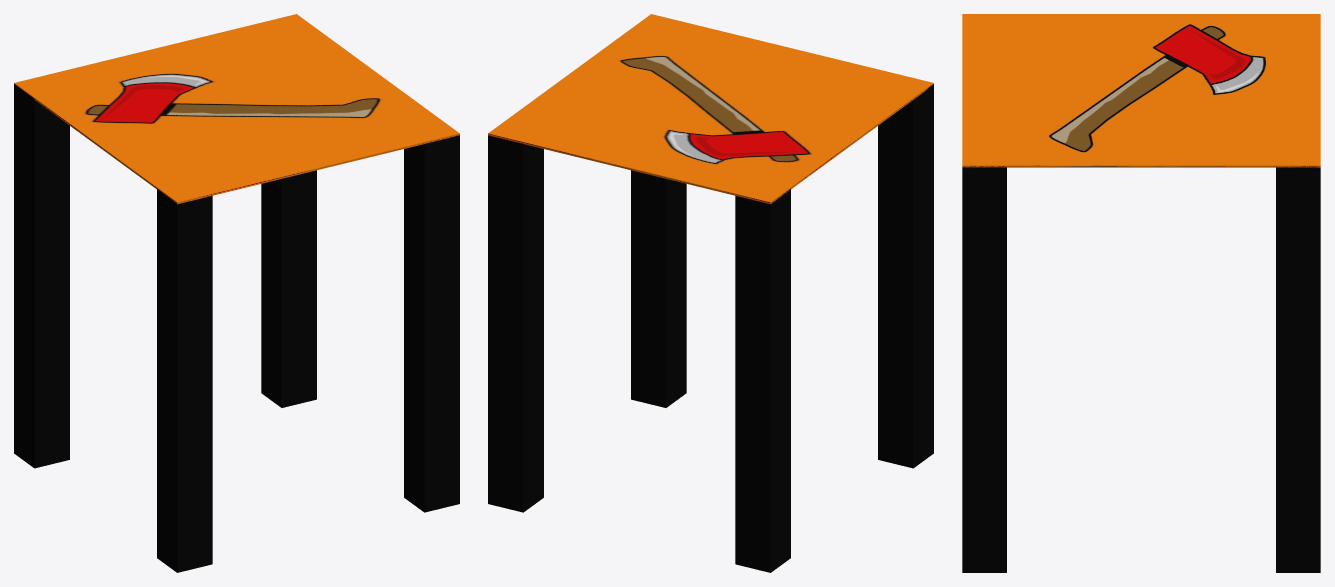
File: smash-table.dae
The picture shows the model from 3 angles, left to right: view 1: azimuth 30°, elevation 25°; view 2: azimuth 150°, elevation 25°; view 3: azimuth 270°, elevation 25°; orthographic projection. The views are drawn at different scales.
Parts seen in each view (by area): view 1: Top, TL4, TL1, TL3, TL2; view 2: Top, TL3, TL2, TL4, TL1; view 3: Top, TL1, TL2.
Boxes of the visible parts, x1=… form: Top: x1=14, y1=14, x2=459, y2=204; TL4: x1=157, y1=189, x2=212, y2=572; TL1: x1=404, y1=135, x2=459, y2=512; TL3: x1=14, y1=84, x2=69, y2=468; TL2: x1=261, y1=170, x2=316, y2=407; Top: x1=488, y1=14, x2=933, y2=204; TL3: x1=735, y1=189, x2=790, y2=572; TL2: x1=488, y1=135, x2=543, y2=512; TL4: x1=878, y1=84, x2=933, y2=468; TL1: x1=631, y1=170, x2=686, y2=407; Top: x1=962, y1=14, x2=1320, y2=167; TL1: x1=962, y1=166, x2=1006, y2=572; TL2: x1=1276, y1=166, x2=1320, y2=572.
Size of the model in its own units: 0.6096 by 0.6096 by 0.7641.
Materials: 2 (1 with a texture image).
